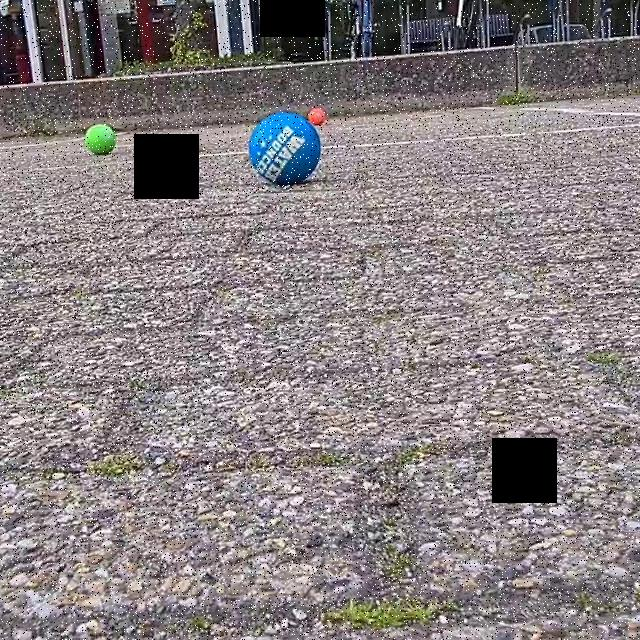ball: (82, 123, 118, 158), (308, 104, 328, 129)
